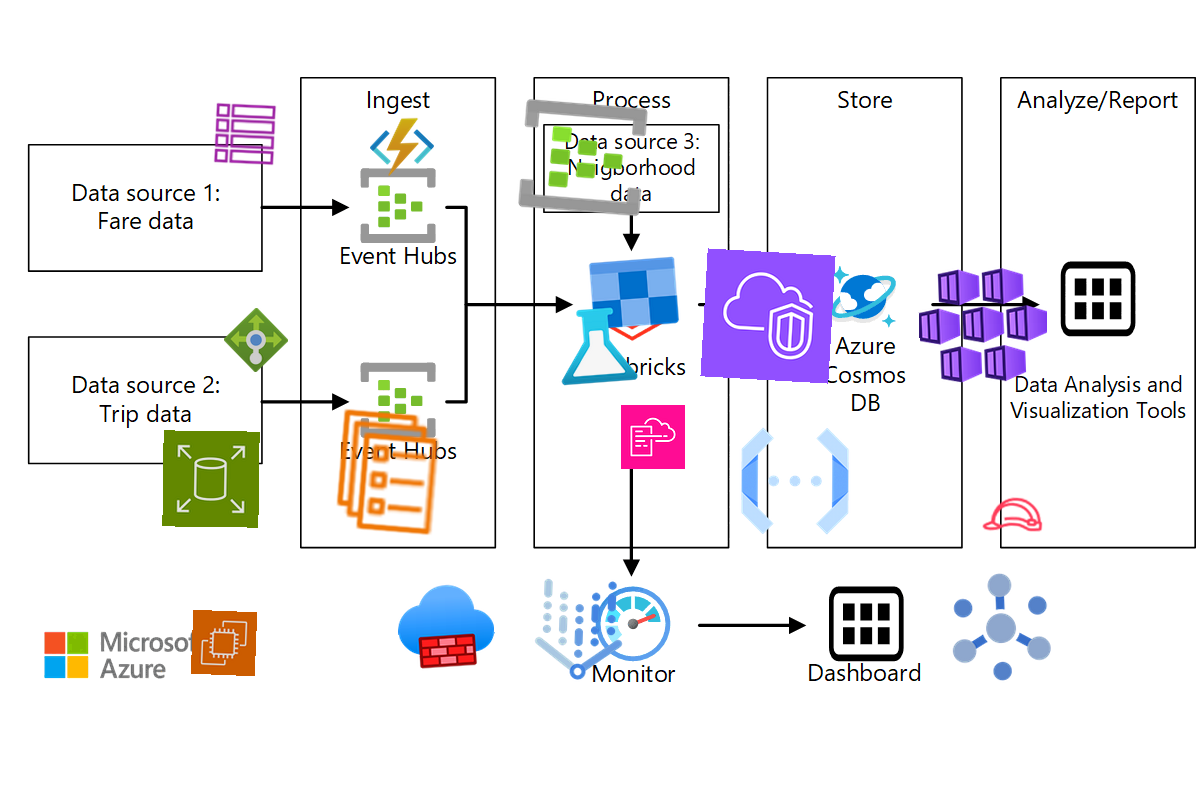aws_amazon_ec2: (190, 609, 258, 677)
aws_amazon_elastic_block_store: (162, 430, 260, 528)
aws_amazon_virtual_private_cloud: (700, 248, 836, 384)
aws_cloudformation: (620, 404, 686, 470)
aws_dynamodb_table: (211, 100, 279, 168)
aws_elastic_container_service_service: (318, 402, 458, 542)
aws_identity_access_management_role: (978, 480, 1048, 550)
azure_event_hubs: (514, 88, 652, 226)
azure_firewalls: (394, 574, 498, 678)
azure_function_apps: (369, 114, 435, 180)
azure_kubernetes_services: (916, 257, 1050, 391)
azure_load_balancers: (223, 307, 289, 373)
azure_machine_learning_studio_workspaces: (549, 252, 687, 390)
gcp_cloud_functions: (730, 416, 860, 546)
gcp_pubsub: (934, 560, 1068, 694)
gcp_vertex_ai: (512, 563, 646, 697)
